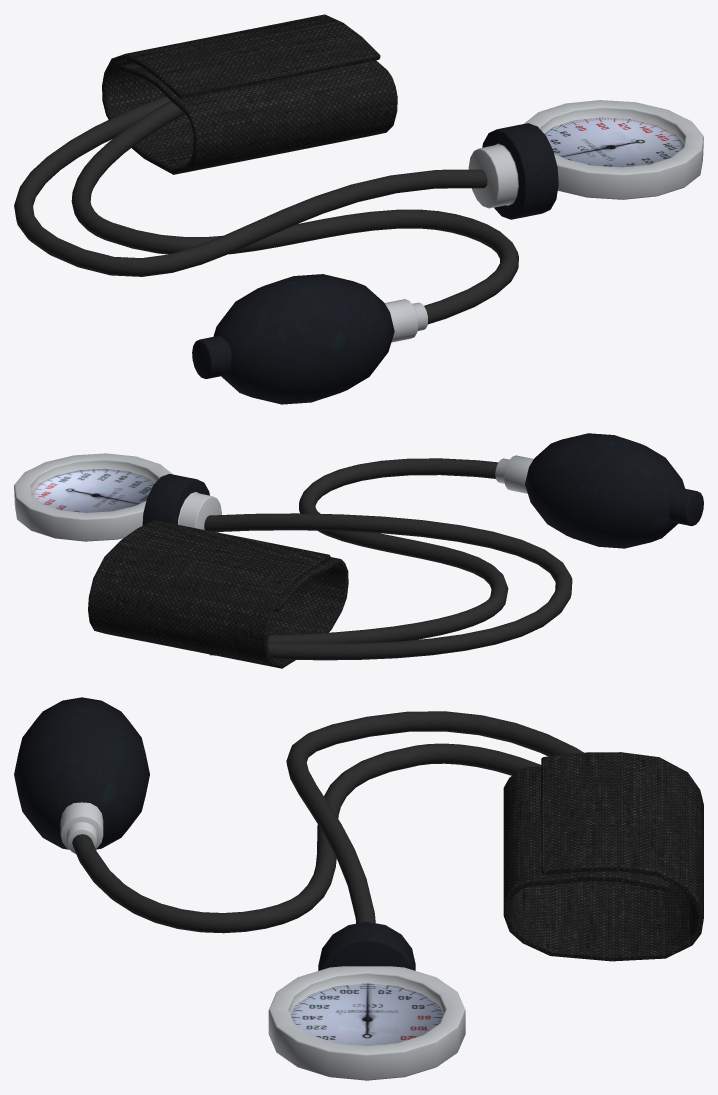
3 views of the same model, one above another, from view 1: azimuth 30°, elevation 25°; view 2: azimuth 150°, elevation 25°; view 3: azimuth 270°, elevation 25° (orthographic). The views are drawn at different scales.
Visible parts, largest first — view 1: sphygmomanometer_0; view 2: sphygmomanometer_0; view 3: sphygmomanometer_0.
Part boxes in pixels (x1,y1,x2,y2): sphygmomanometer_0: (14, 14, 703, 404); sphygmomanometer_0: (14, 433, 703, 668); sphygmomanometer_0: (14, 697, 703, 1080).
Size of the model in its own units: 2.28 by 0.439 by 2.05.
Materials: 1 (1 with a texture image).
